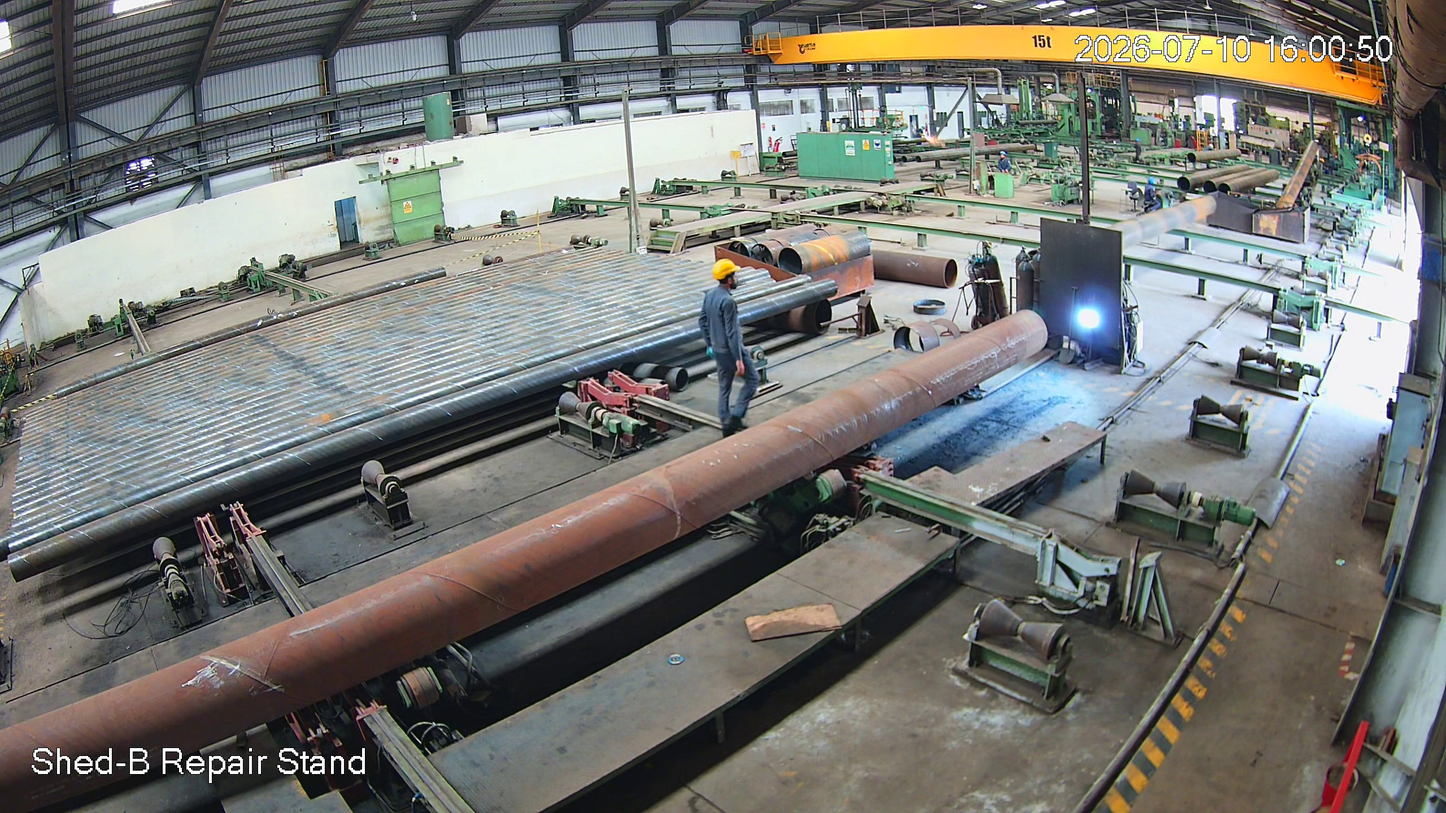Helmet: (706, 256, 744, 306)
Person: (691, 258, 771, 433)
